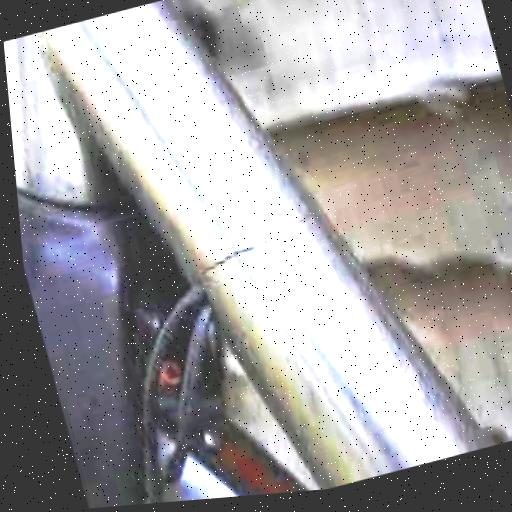crack: (201, 219, 303, 275)
